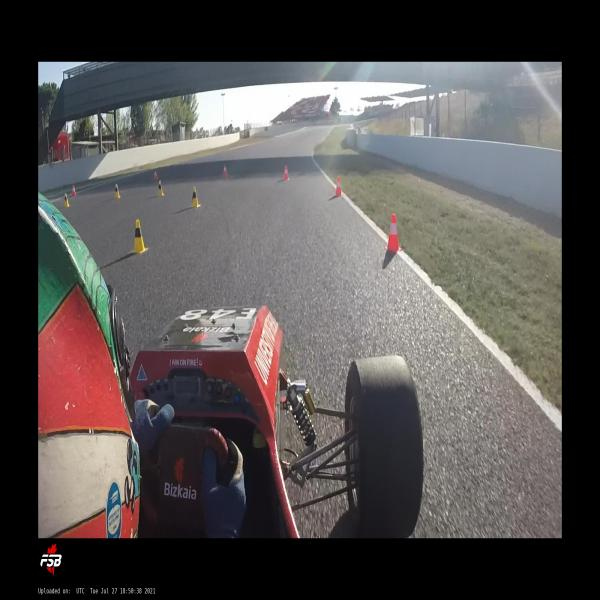orange_cone: (384, 213, 402, 252), (334, 176, 342, 196), (282, 165, 289, 181), (71, 184, 77, 196), (223, 164, 228, 177), (154, 171, 158, 181)
yellow_cone: (130, 218, 148, 254), (191, 186, 201, 208), (157, 180, 165, 196), (114, 184, 121, 199), (64, 194, 70, 208)
